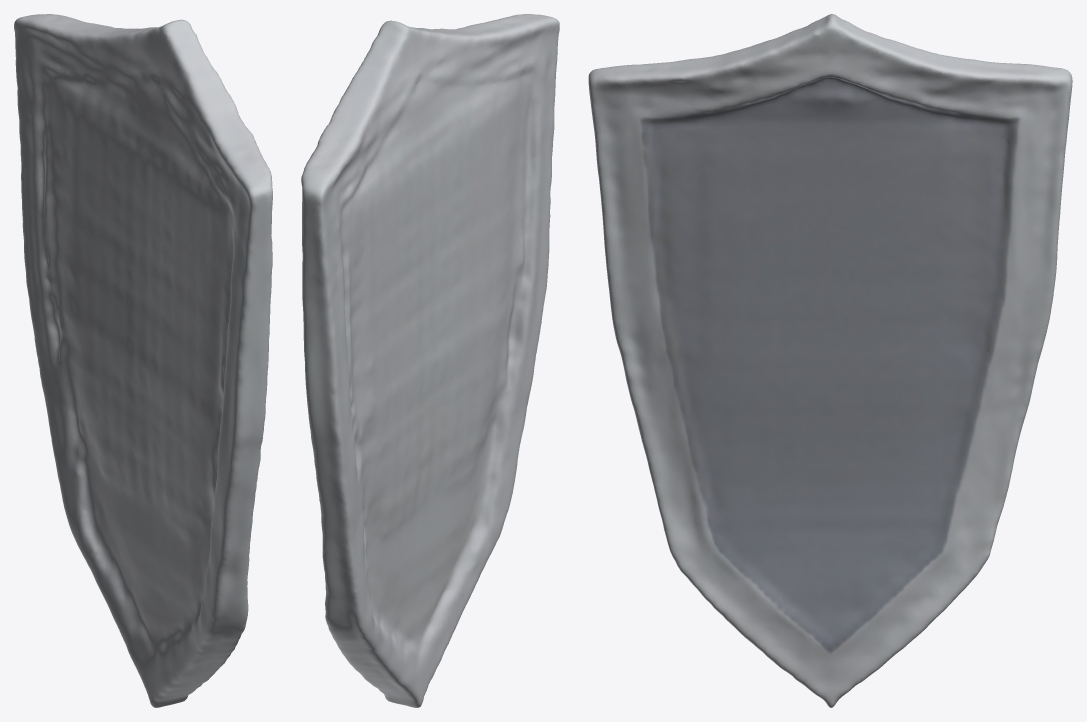
Rendered from f51133760197_white_flat_shield__.fbx.
3 views of the same model, side by side, from view 1: azimuth 30°, elevation 25°; view 2: azimuth 150°, elevation 25°; view 3: azimuth 270°, elevation 25° (orthographic).
Parts seen in each view (by area): view 1: high_poly; view 2: high_poly; view 3: high_poly.
Part boxes in pixels (bbox=[...]): high_poly: bbox=[14, 14, 272, 707]; high_poly: bbox=[301, 14, 559, 707]; high_poly: bbox=[588, 14, 1072, 707].
Size of the model in its own units: 9.23 by 100 by 63.76.
